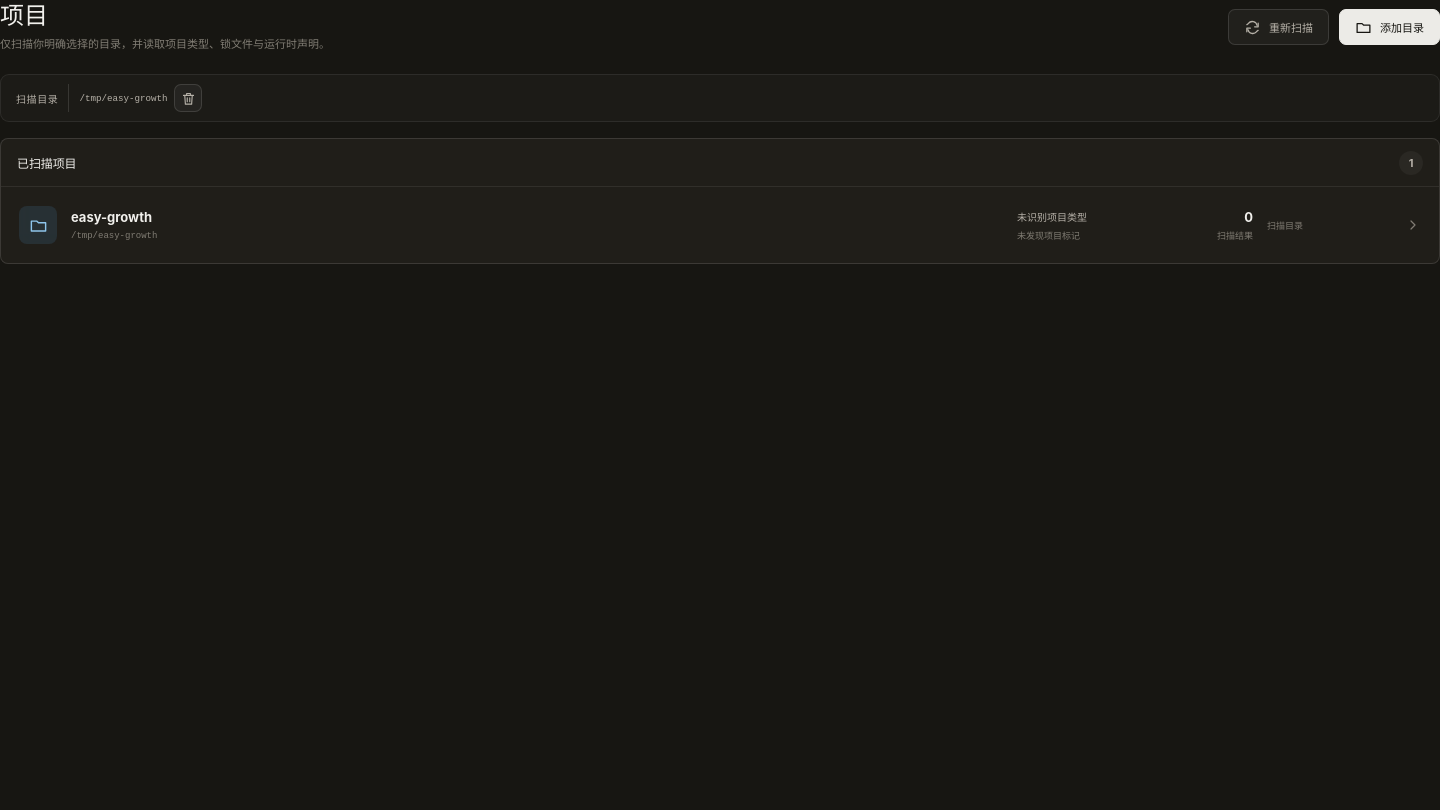
ProjectsPage › 为没有项目标记的扫描根目录保留未识别入口
Click the button with aria-label "查看项目 easy-growth".
click(38, 225)  # box left=1, top=187, right=1439, bottom=263
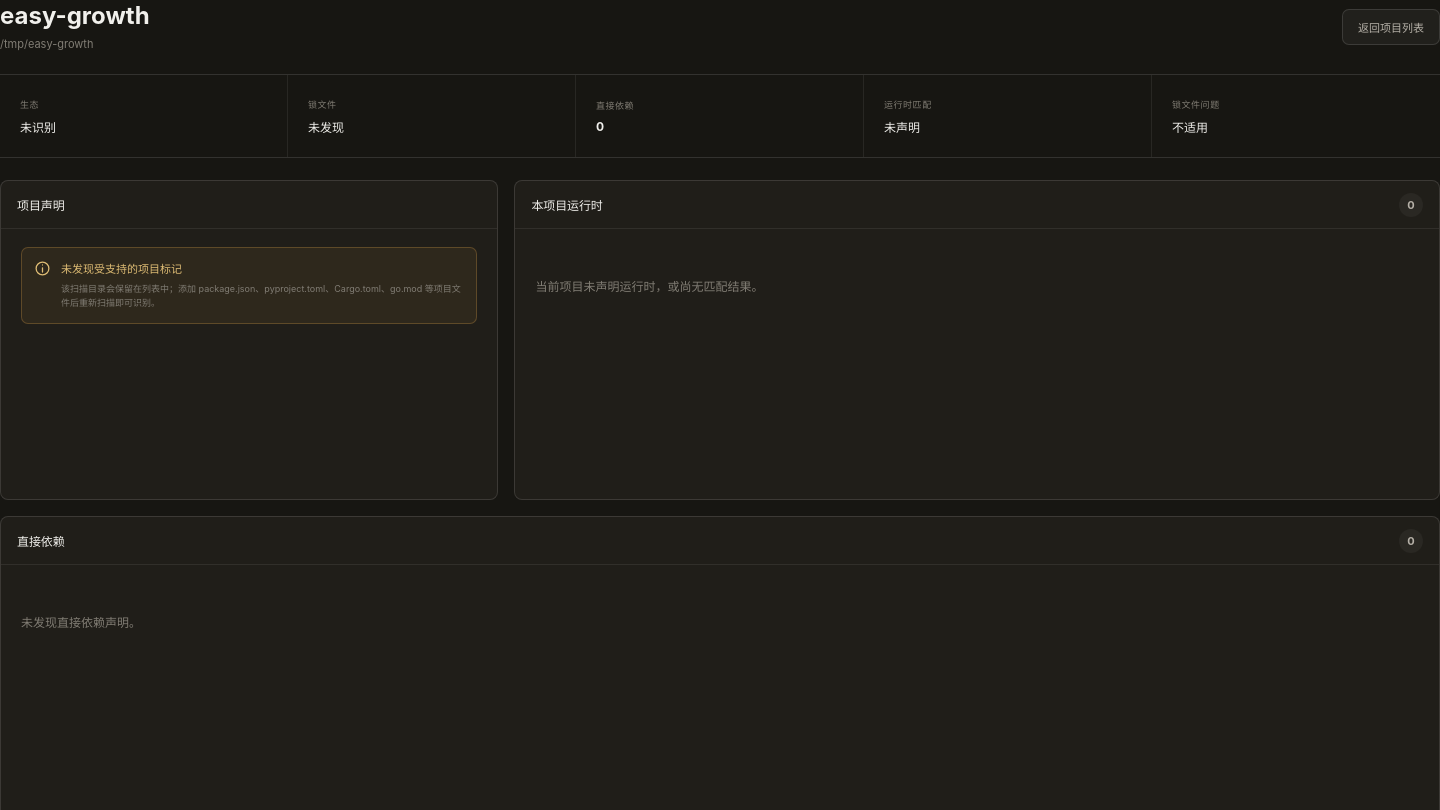
Now the heading "easy-growth" is shown, box left=0, top=2, right=150, bottom=31
Now the text "未发现受支持的项目标记" is shown, box left=61, top=262, right=182, bottom=276
